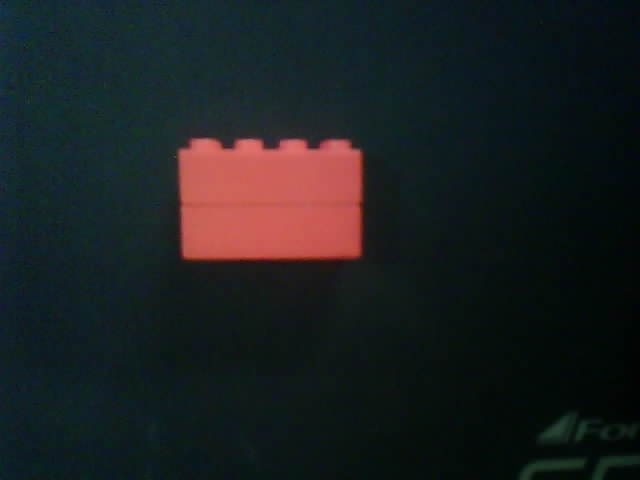lego: (175, 135, 364, 266)
